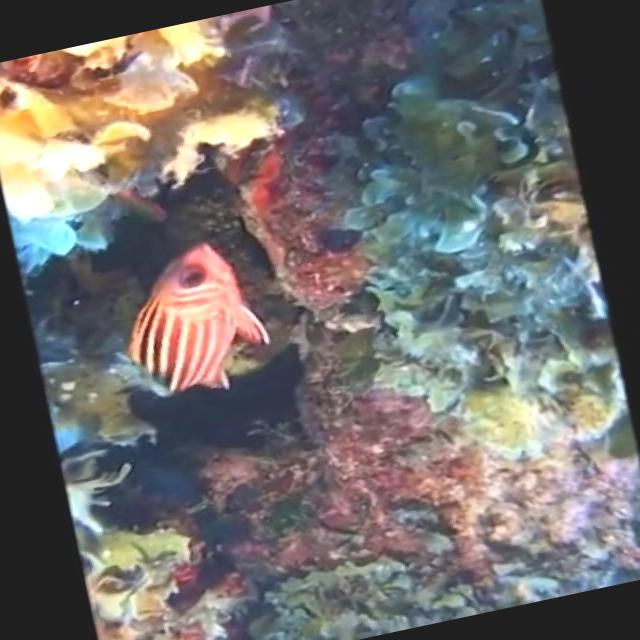Asker Baligi: (101, 227, 282, 409)
